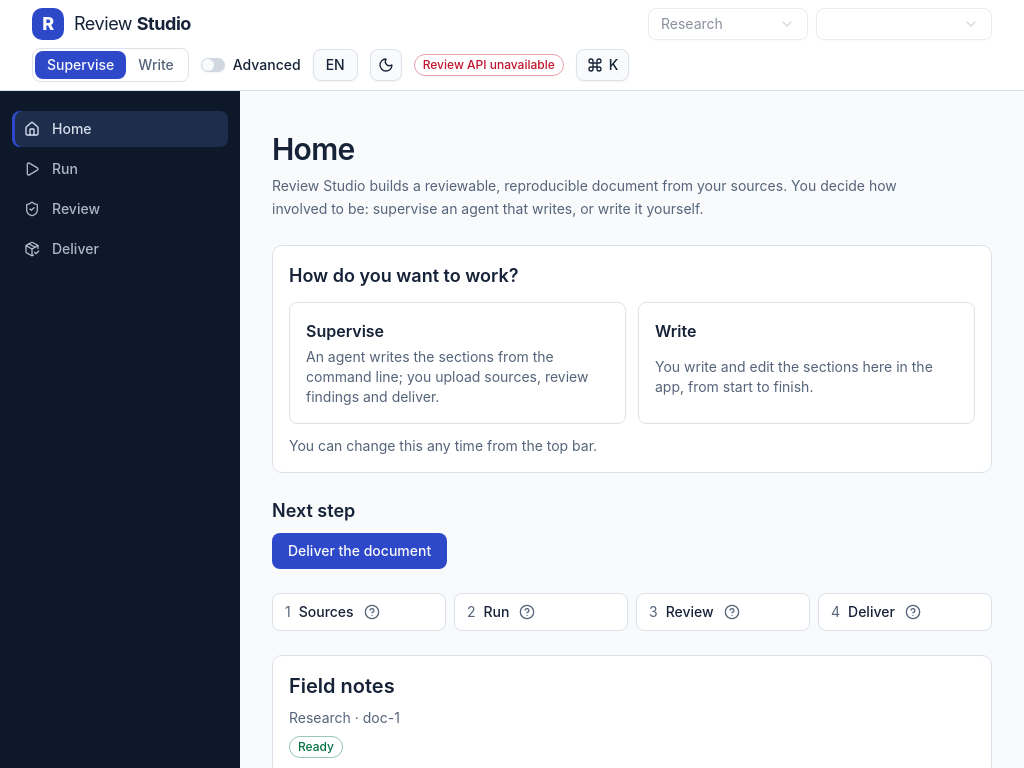
Home purpose, flow and mode chooser › asks the first-run question and remembers the answer
Click the button "Write": (806, 362) [638,302,975,424]
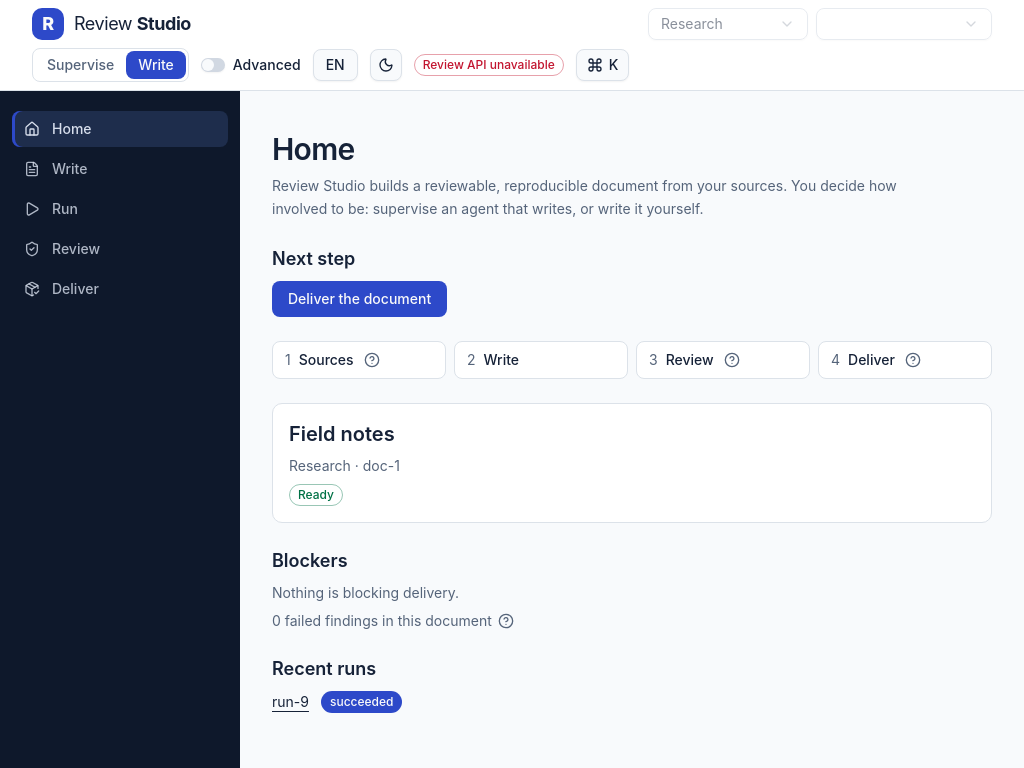
Expected: the heading "How do you want to work?" is gone
